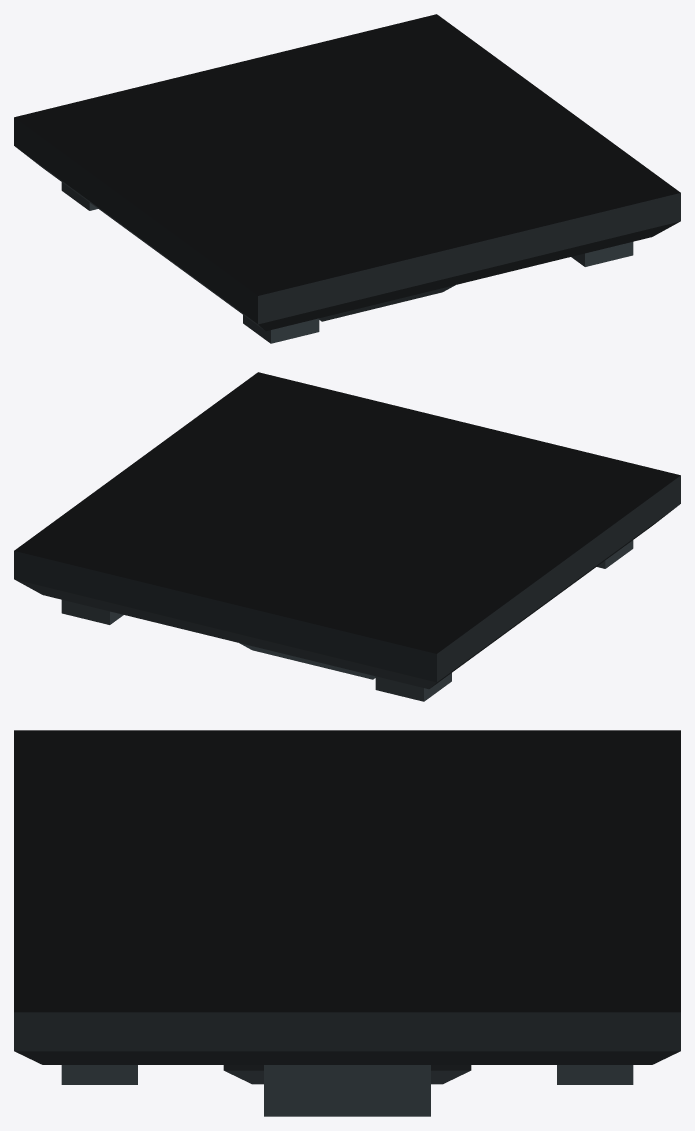
File: lp_camera_plate.glb
3 views of the same model, one above another, from view 1: azimuth 30°, elevation 25°; view 2: azimuth 150°, elevation 25°; view 3: azimuth 270°, elevation 25° (orthographic). The views are drawn at different scales.
Parts seen in each view (by area): view 1: lp_camera_plate; view 2: lp_camera_plate; view 3: lp_camera_plate.
Part boxes in pixels (x1,y1,x2,y2): lp_camera_plate: (14, 14, 680, 343); lp_camera_plate: (14, 372, 680, 701); lp_camera_plate: (14, 730, 680, 1116).
Size of the model in its own units: 0.28 by 0.08 by 0.28.
Materials: 1 (1 with a texture image).
